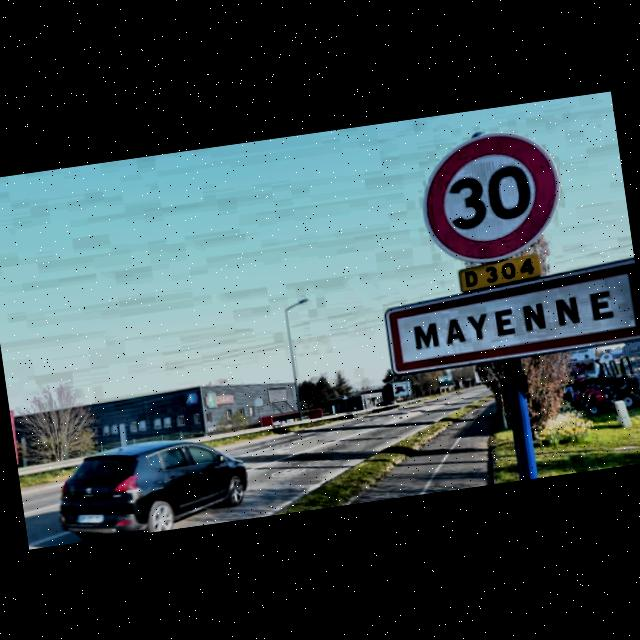speed_30: (415, 123, 570, 269)
